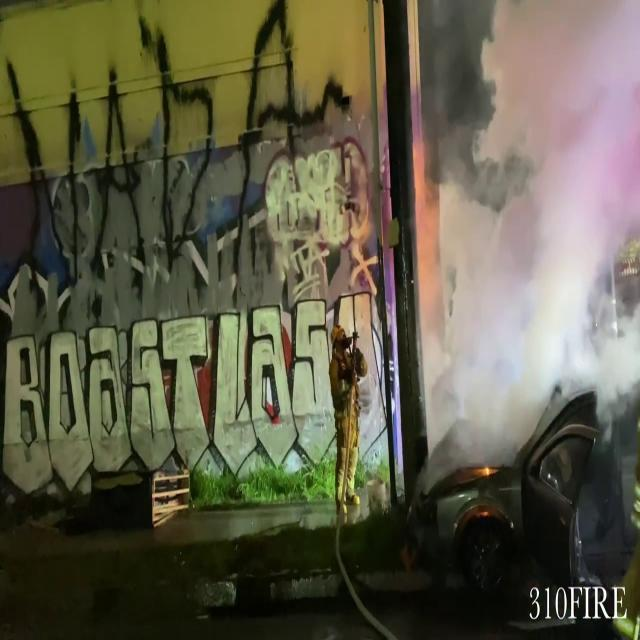Smoke: (428, 0, 639, 461)
